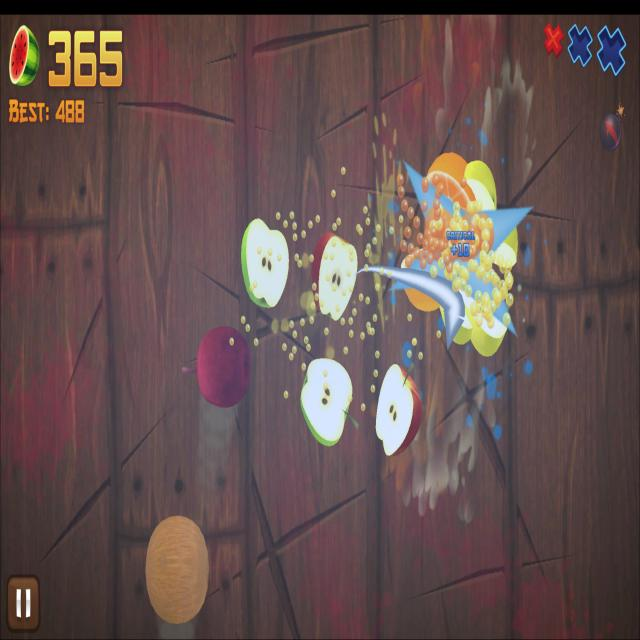fruit: (147, 516, 207, 622), (198, 324, 250, 408)
